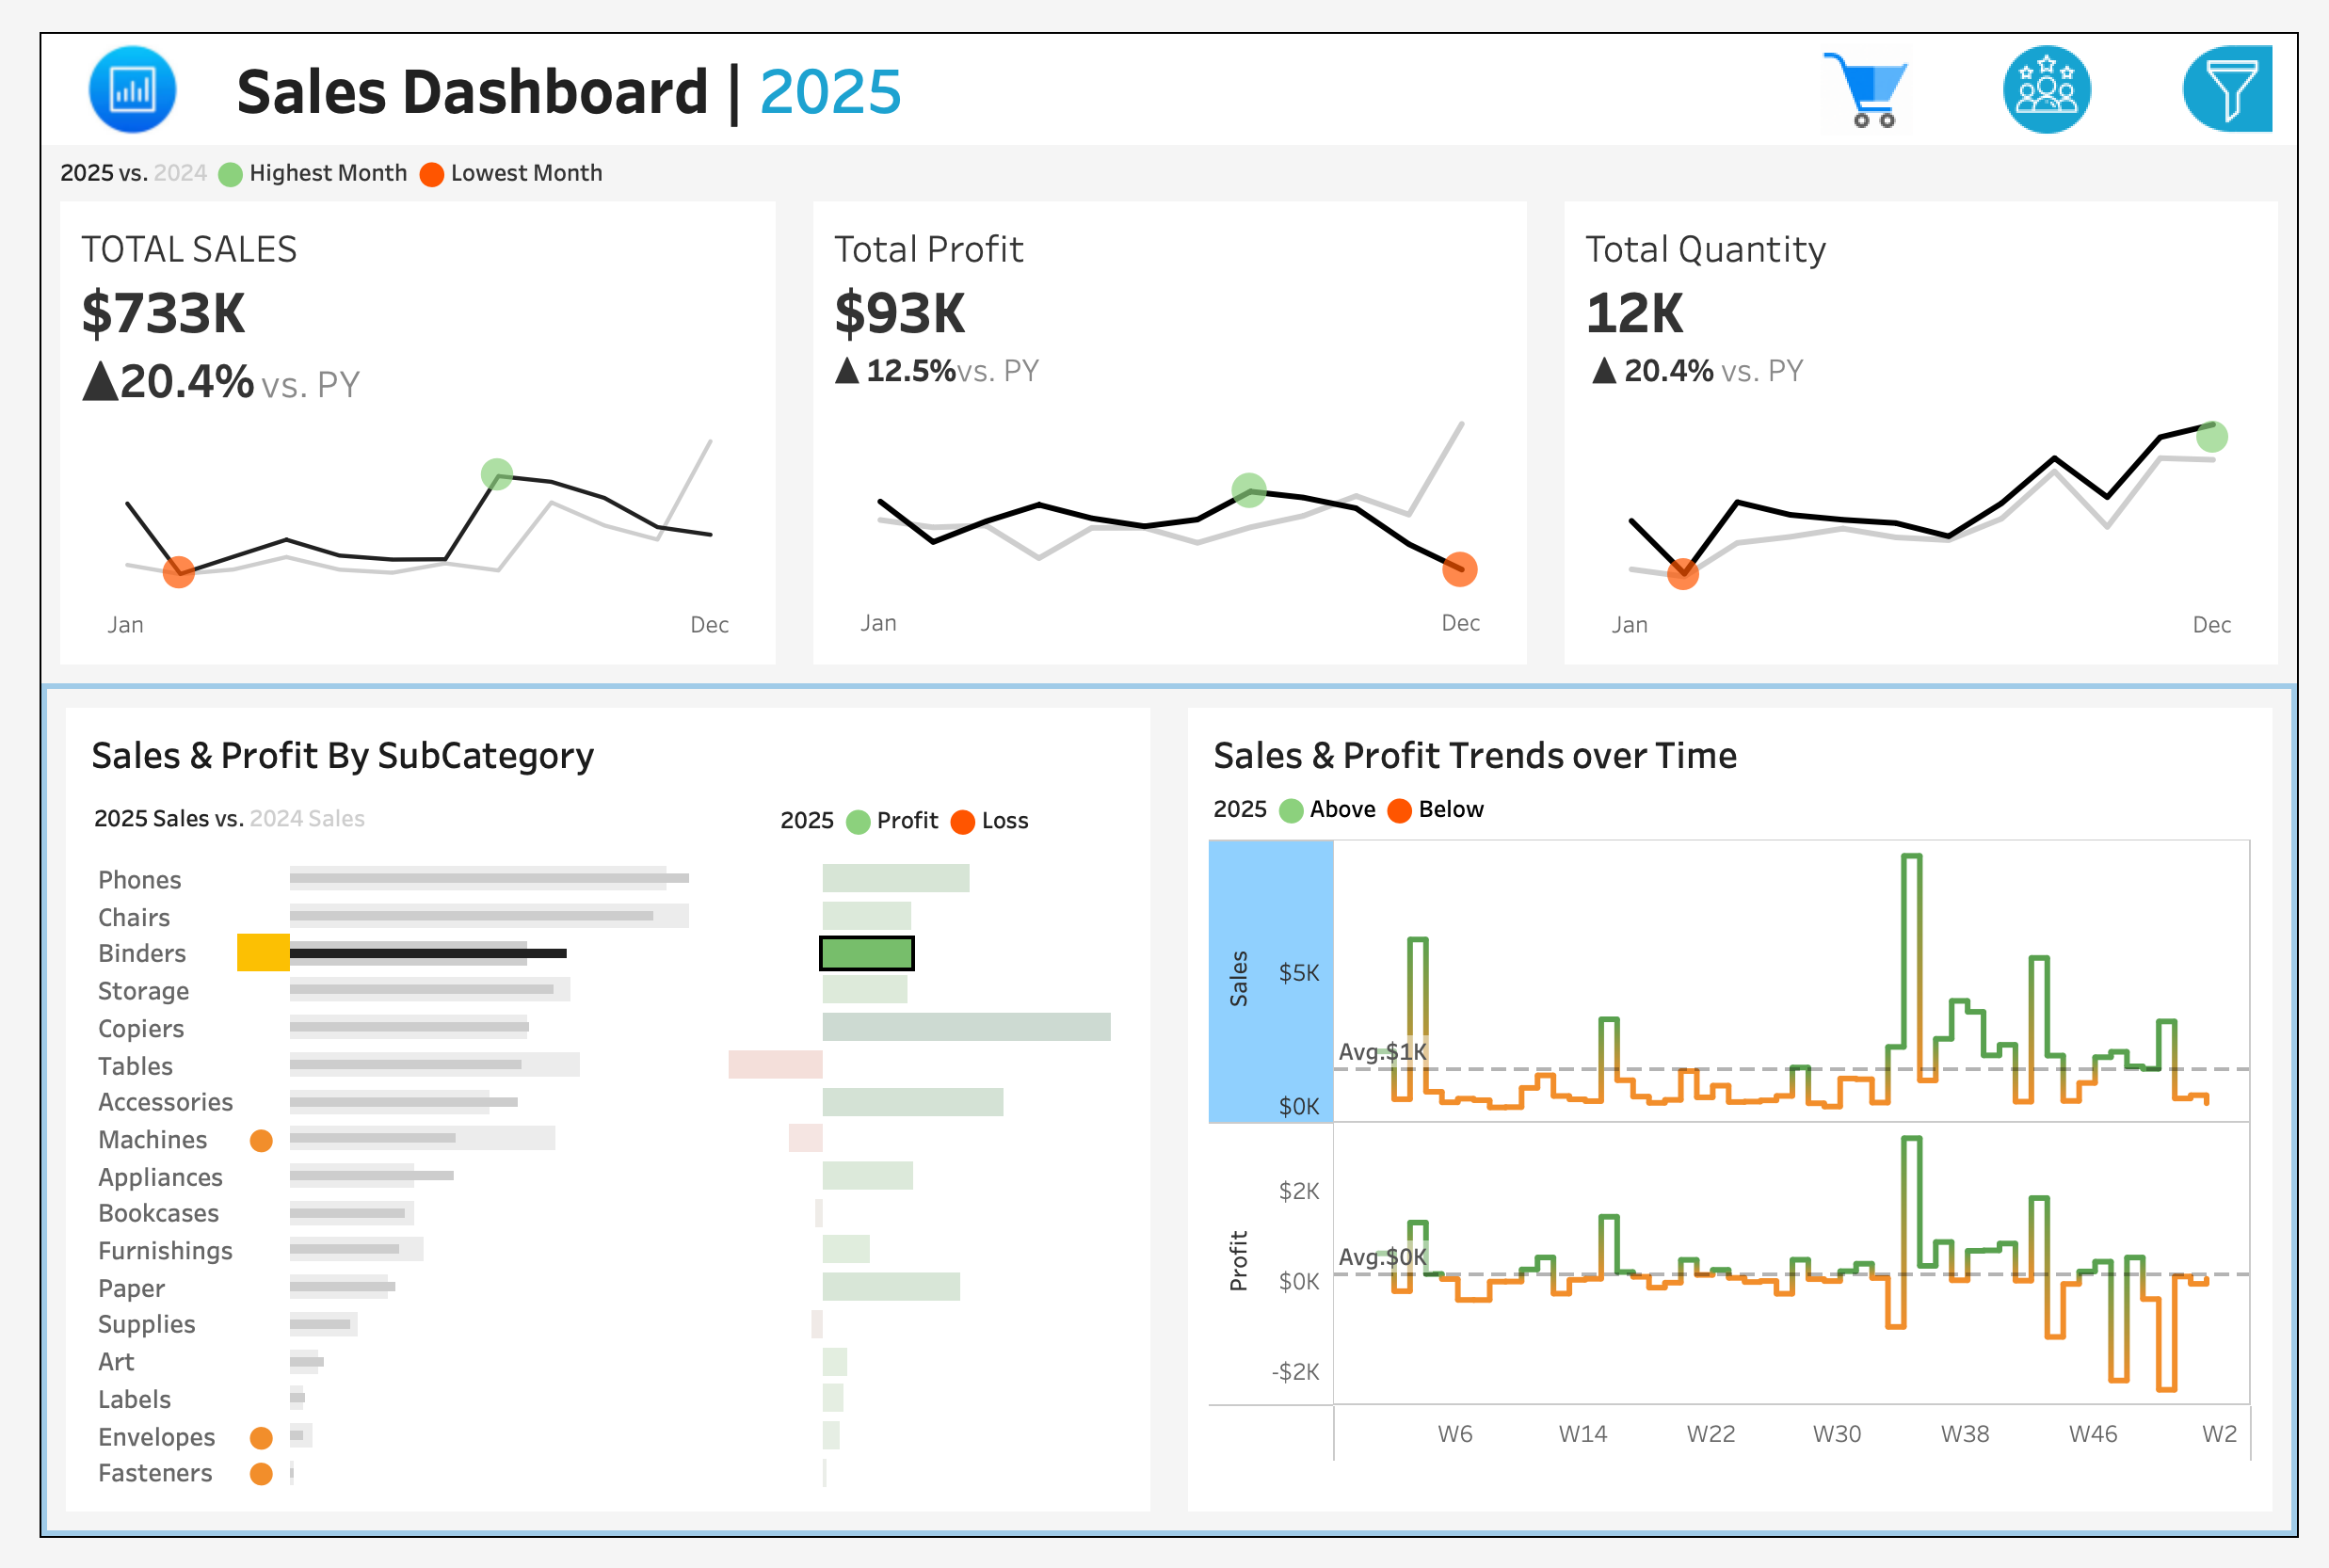

Layout of this report page (visuals, bound fields, positions):
{"tool":"tableau","page":{"name":"Sales Dashboard","canvas":[1200,800],"ordinal":1},"visuals":[{"type":"image","param":"Image/Icon - Logo.png","box":[0,0,73,59]},{"type":"text","box":[73,0,820,59]},{"type":"dashboard-object","box":[940,6,91,70]},{"type":"dashboard-object","box":[1031,6,91,70]},{"type":"blank","box":[952,10,237,86]},{"type":"worksheet","title":"Legend KPI","mark":"Automatic","box":[0,59,1200,29]},{"type":"worksheet","title":"KPI Sales","mark":"Automatic","rows":["Calculation_721701895347843083"],"cols":["Order Date"],"box":[0,88,400,284]},{"type":"worksheet","title":"KPI Profit","mark":"Automatic","rows":["Min/Max Sales (copy)_237846410425847814"],"cols":["Order Date"],"box":[400,88,400,284]},{"type":"worksheet","title":"KPI Quantity","mark":"Automatic","rows":["Min/Max Sales (copy) (copy)_237846410425856007"],"cols":["Order Date"],"box":[800,88,400,284]},{"type":"text","box":[952,96,237,37]},{"type":"parameter","param":"[Parameters].[Parameter 1]","box":[952,133,237,55]},{"type":"text","box":[952,188,237,32]},{"type":"filter","title":"KPI Sales","param":"[federated.1kpxa041aiai2y1cl4pui1t4eju9].[none:Category:nk]","box":[952,220,237,57]},{"type":"filter","title":"KPI Sales","param":"[federated.1kpxa041aiai2y1cl4pui1t4eju9].[none:Sub-Category:nk]","box":[952,277,237,57]},{"type":"blank","box":[952,334,237,60]},{"type":"text","box":[17,389,566,34]},{"type":"text","box":[617,389,566,34]},{"type":"text","box":[952,394,237,32]},{"type":"worksheet","title":"Legend Subcategory","mark":"Automatic","box":[17,423,374,32]},{"type":"text","box":[391,423,192,32]},{"type":"text","box":[617,423,566,25]},{"type":"filter","title":"KPI Sales","param":"[federated.1kpxa041aiai2y1cl4pui1t4eju9].[none:Region:nk]","box":[952,426,237,57]},{"type":"worksheet","title":"Weekly Trends","mark":"Automatic","rows":["Calculation_721701895334993921","CY Sales (copy)_237846410424180736"],"cols":["Order Date"],"box":[617,448,566,335]},{"type":"worksheet","title":"Subcategory Comparison","mark":"Bar","rows":["Sub-Category","Calculation_2435040078806671369"],"cols":["CY Sales (copy)_721701895335804930","Calculation_721701895334993921","CY Sales (copy)_237846410424180736"],"box":[17,455,566,327.9]},{"type":"filter","title":"KPI Sales","param":"[federated.1kpxa041aiai2y1cl4pui1t4eju9].[none:State:nk]","box":[952,483,237,57]},{"type":"filter","title":"KPI Sales","param":"[federated.1kpxa041aiai2y1cl4pui1t4eju9].[none:City:nk]","box":[952,540,237,57]}]}

Visuals, with their boxes in screenshot pixels (x1, y1, x2, y2), scaled from the page's 1200x800 canvas onto the 2329x1568 screenshot:
image: x1=0, y1=0, x2=142, y2=116
text: x1=142, y1=0, x2=1733, y2=116
dashboard-object: x1=1824, y1=11, x2=2001, y2=149
dashboard-object: x1=2001, y1=11, x2=2177, y2=149
blank: x1=1848, y1=20, x2=2307, y2=188
"Legend KPI" worksheet: x1=0, y1=116, x2=2328, y2=172
"KPI Sales" worksheet: x1=0, y1=172, x2=777, y2=729
"KPI Profit" worksheet: x1=777, y1=172, x2=1552, y2=729
"KPI Quantity" worksheet: x1=1552, y1=172, x2=2328, y2=729
text: x1=1848, y1=188, x2=2307, y2=261
parameter: x1=1848, y1=261, x2=2307, y2=369
text: x1=1848, y1=369, x2=2307, y2=431
"KPI Sales" filter: x1=1848, y1=431, x2=2307, y2=543
"KPI Sales" filter: x1=1848, y1=543, x2=2307, y2=655
blank: x1=1848, y1=655, x2=2307, y2=773
text: x1=33, y1=762, x2=1132, y2=829
text: x1=1197, y1=762, x2=2296, y2=829
text: x1=1848, y1=773, x2=2307, y2=835
"Legend Subcategory" worksheet: x1=33, y1=829, x2=759, y2=892
text: x1=759, y1=829, x2=1132, y2=892
text: x1=1197, y1=829, x2=2296, y2=878
"KPI Sales" filter: x1=1848, y1=835, x2=2307, y2=947
"Weekly Trends" worksheet: x1=1197, y1=878, x2=2296, y2=1535
"Subcategory Comparison" worksheet (Bar marks): x1=33, y1=892, x2=1132, y2=1534
"KPI Sales" filter: x1=1848, y1=947, x2=2307, y2=1059
"KPI Sales" filter: x1=1848, y1=1059, x2=2307, y2=1170
